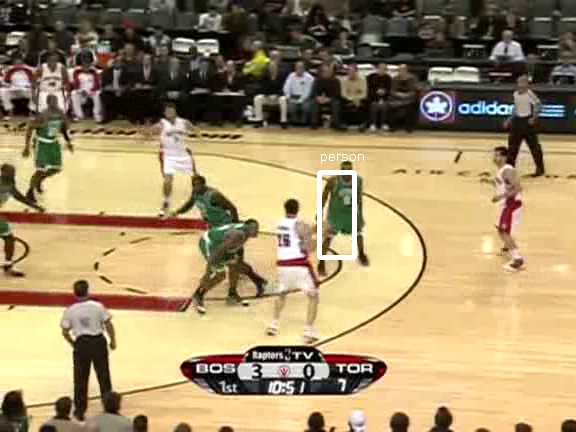person: (329, 166, 363, 247), (328, 166, 362, 247), (330, 166, 364, 247), (329, 165, 363, 246), (329, 167, 363, 248)
target_negative: (188, 1, 574, 62), (404, 367, 487, 427), (359, 383, 521, 410), (387, 119, 415, 143), (299, 225, 311, 232), (570, 423, 572, 432)
